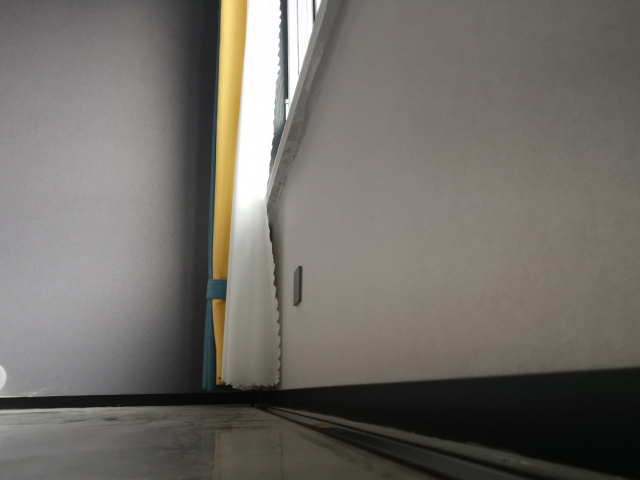curtain: (195, 1, 285, 396)
